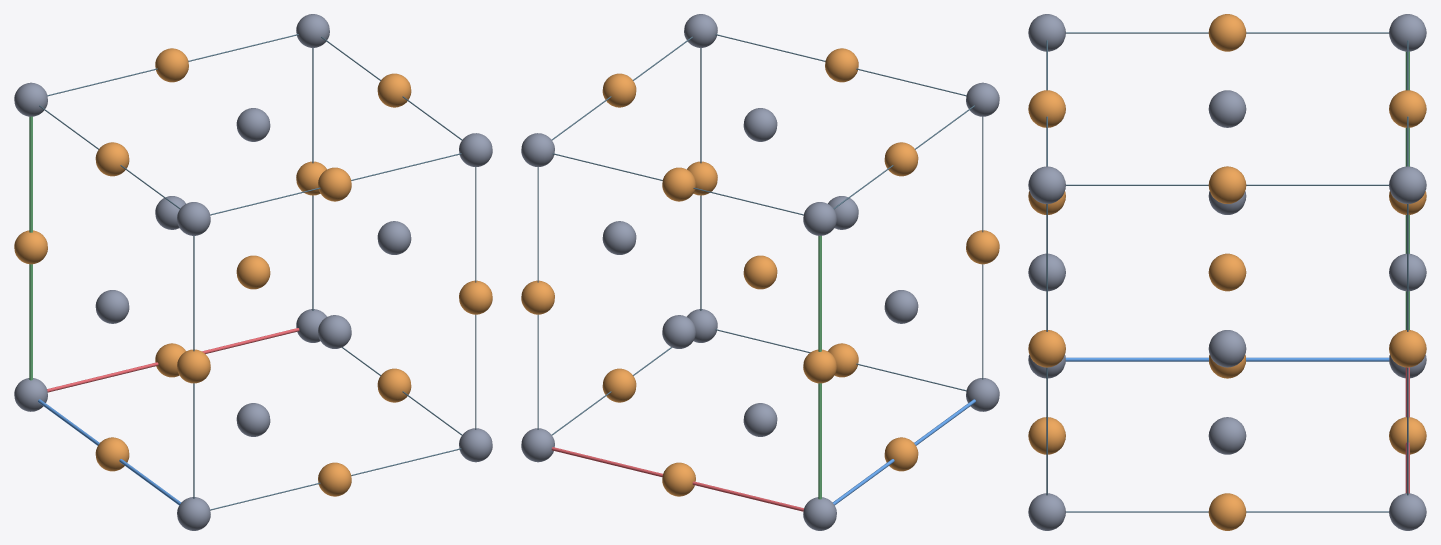
The model's file is clausthalite.glb.
3 views of the same model, side by side, from view 1: azimuth 30°, elevation 25°; view 2: azimuth 150°, elevation 25°; view 3: azimuth 270°, elevation 25° (orthographic). The views are drawn at different scales.
Parts seen in each view (by area): view 1: Pb · Pb · 1 (×14), Se · Se · 1 (×13), Ô mạng và các trục a, b, c; view 2: Pb · Pb · 1 (×14), Se · Se · 1 (×13), Ô mạng và các trục a, b, c; view 3: Pb · Pb · 1 (×11), Se · Se · 1 (×10), Ô mạng và các trục a, b, c.
Boxes of the visible parts, left/top/right/bottom form: Pb · Pb · 1 (×14): left=14, top=14, right=492, bottom=530; Se · Se · 1 (×13): left=14, top=48, right=492, bottom=496; Ô mạng và các trục a, b, c: left=29, top=34, right=476, bottom=510; Pb · Pb · 1 (×14): left=521, top=14, right=999, bottom=530; Se · Se · 1 (×13): left=521, top=48, right=999, bottom=496; Ô mạng và các trục a, b, c: left=537, top=34, right=983, bottom=511; Pb · Pb · 1 (×11): left=1028, top=14, right=1426, bottom=530; Se · Se · 1 (×10): left=1028, top=14, right=1426, bottom=530; Ô mạng và các trục a, b, c: left=1046, top=32, right=1409, bottom=512.
Bounding box in the file's own units: 6.76 × 6.76 × 6.76.
